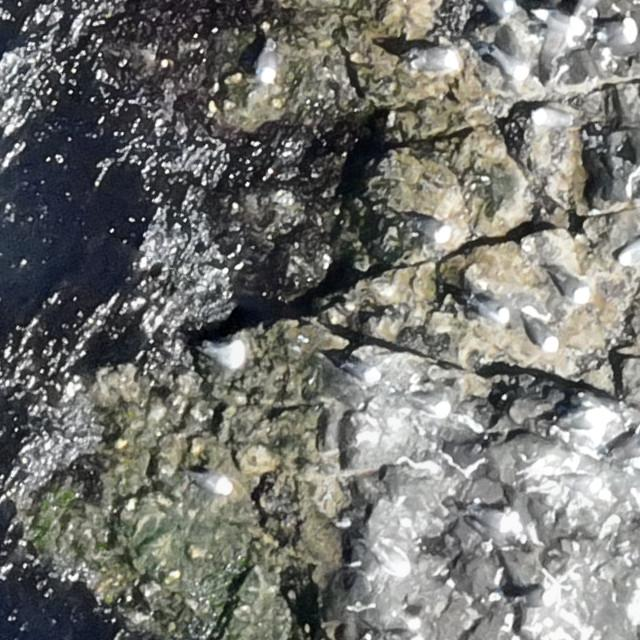F: (529, 2, 583, 74)
umineko: (555, 264, 591, 305), (202, 338, 251, 367), (514, 580, 568, 606), (524, 309, 558, 349), (408, 391, 453, 419), (411, 215, 451, 246), (476, 507, 519, 535), (413, 47, 462, 71), (257, 43, 281, 88), (598, 18, 636, 46), (474, 293, 510, 321), (565, 408, 605, 431), (197, 471, 233, 494), (344, 362, 374, 382)
